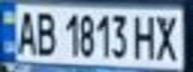1: (60, 10, 81, 57), (93, 11, 112, 58)
3: (109, 11, 133, 60)
8: (78, 10, 96, 57)
A: (12, 7, 39, 56)
B: (30, 8, 57, 57)
H: (130, 11, 160, 61)
X: (151, 11, 184, 62)
